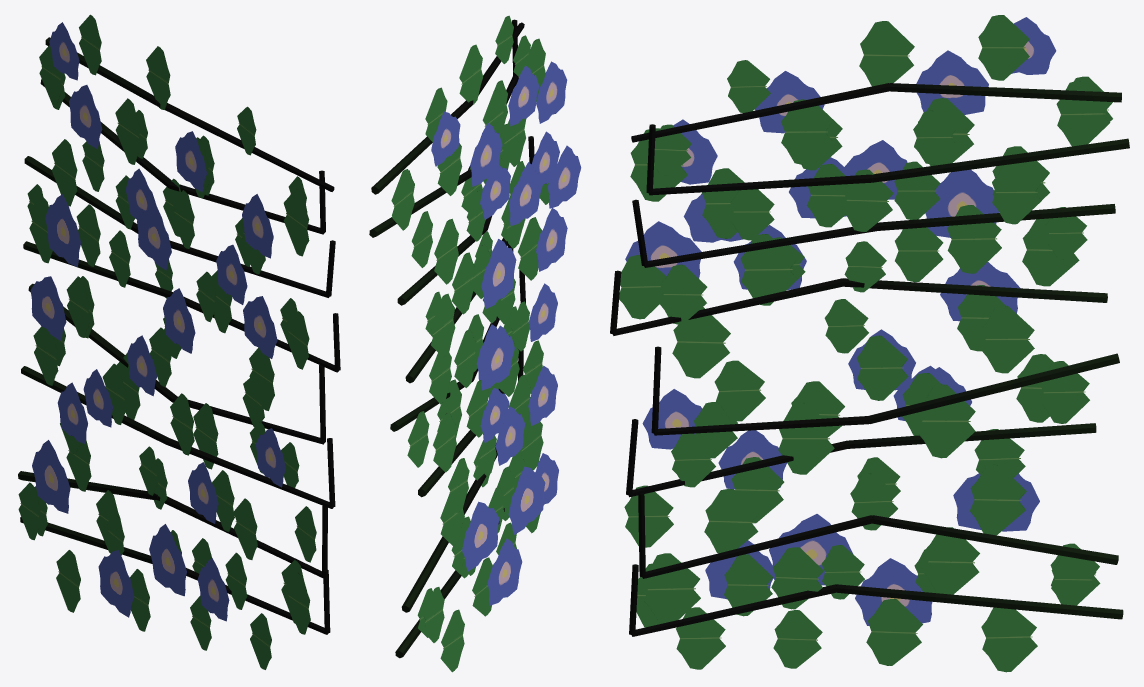
The model's file is VD_DwarfMorningGlory_B.obj.
3 renders of one model, left to right at view 1: azimuth 30°, elevation 25°; view 2: azimuth 150°, elevation 25°; view 3: azimuth 270°, elevation 25°, orthographic. The views are drawn at different scales.
Parts seen in each view (by area): view 1: VD_DwarfMorningGlory_B; view 2: VD_DwarfMorningGlory_B; view 3: VD_DwarfMorningGlory_B.
Part boxes in pixels (x1,y1,x2,y2): VD_DwarfMorningGlory_B: (18,14,340,669); VD_DwarfMorningGlory_B: (369,15,581,672); VD_DwarfMorningGlory_B: (610,15,1129,672).
Size of the model in its own units: 33.78 by 144 by 101.
3 materials, 2 textured.
